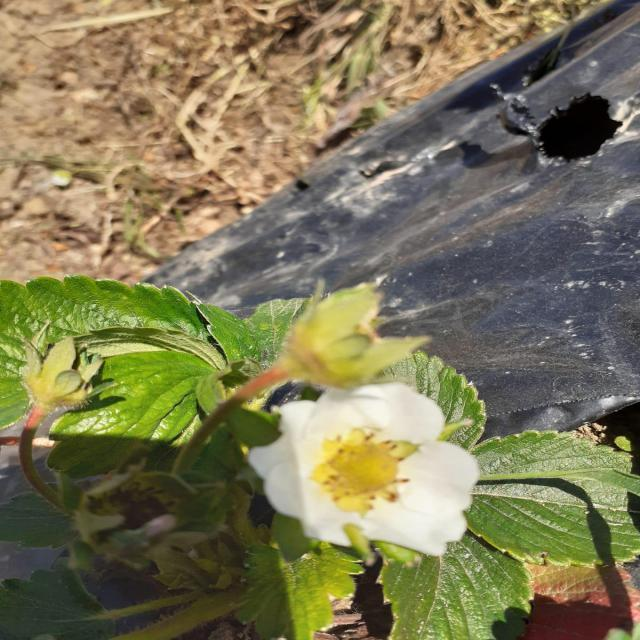flower: (258, 374, 476, 556)
